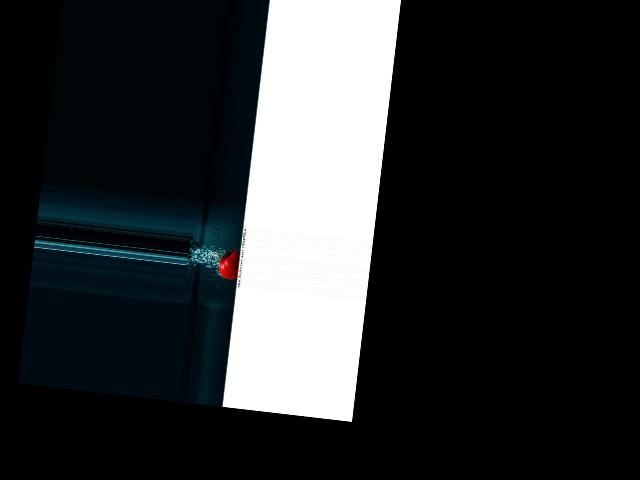tomato: (217, 248, 240, 279)
